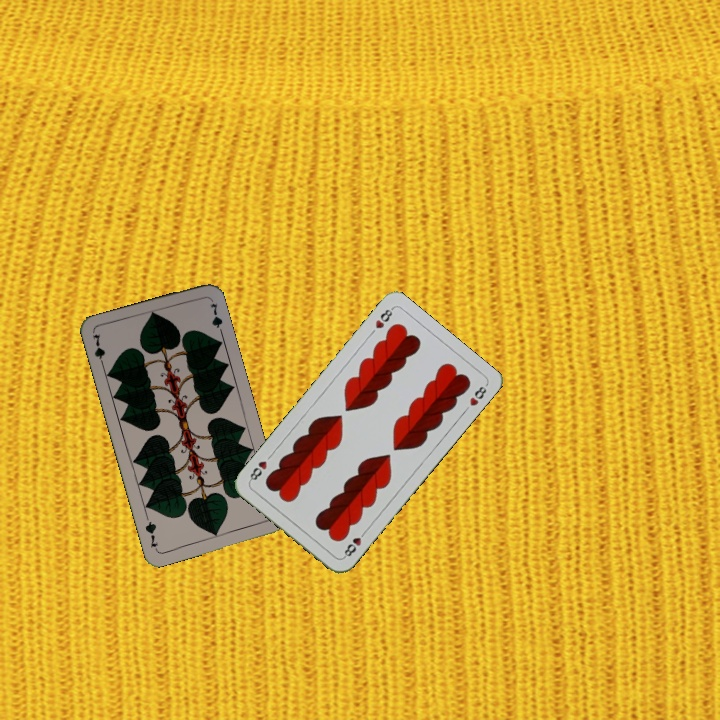G7: (88, 330, 108, 370)
H8: (339, 526, 369, 561), (371, 304, 396, 331)
